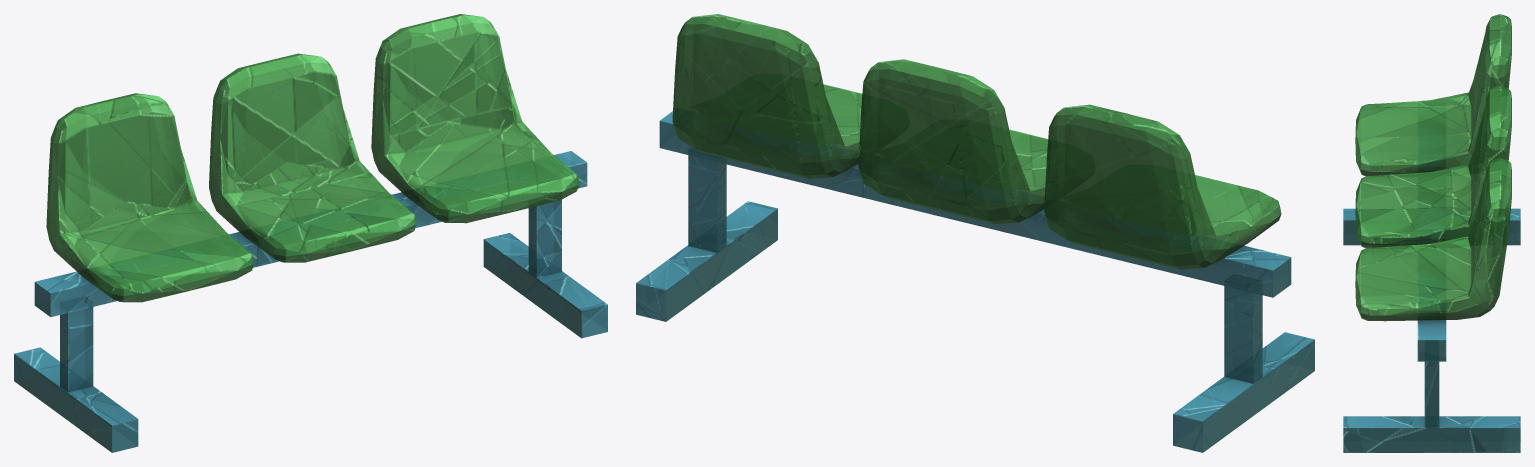
File: MD_benti_20251118.fbx
3 views of the same model, side by side, from view 1: azimuth 30°, elevation 25°; view 2: azimuth 150°, elevation 25°; view 3: azimuth 270°, elevation 25° (orthographic). The views are drawn at different scales.
Visible parts, largest first — view 1: be:bentiUV; view 2: be:bentiUV; view 3: be:bentiUV.
Boxes of the visible parts, <box> form: be:bentiUV: <box>14,14,607,452</box>; be:bentiUV: <box>636,14,1314,452</box>; be:bentiUV: <box>1343,14,1520,452</box>.
Size of the model in its own units: 379 by 181 by 120.
